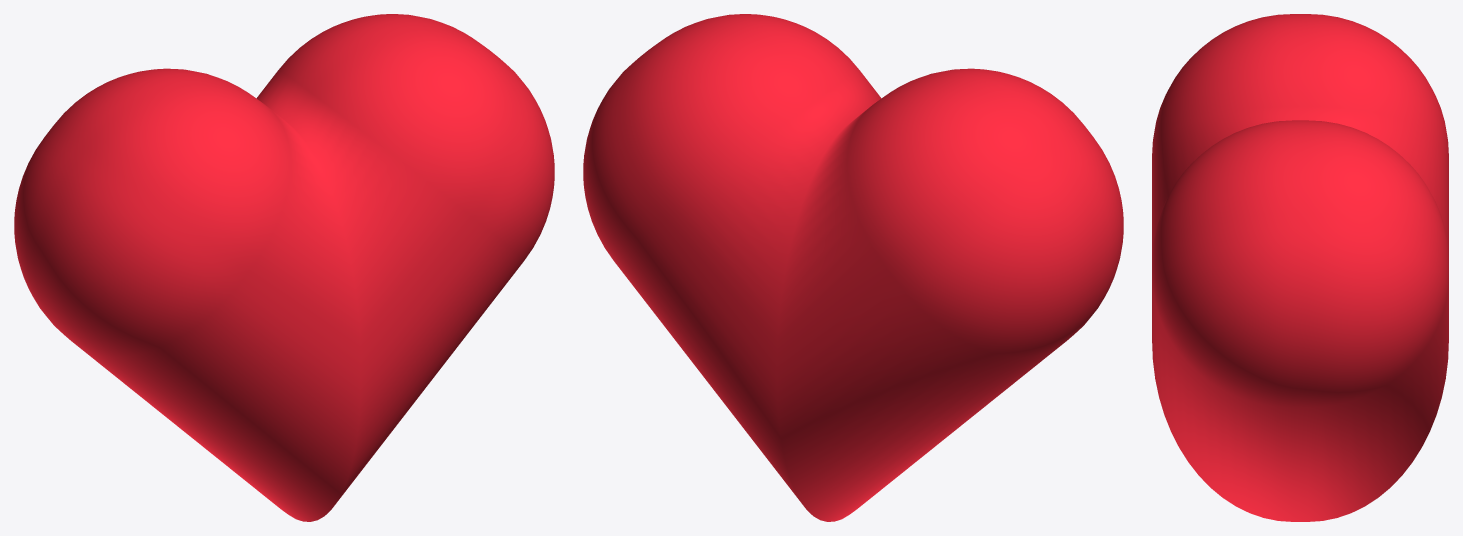
The model's file is heart1.glb.
3 views of the same model, side by side, from view 1: azimuth 30°, elevation 25°; view 2: azimuth 150°, elevation 25°; view 3: azimuth 270°, elevation 25° (orthographic). The views are drawn at different scales.
Parts seen in each view (by area): view 1: Cube; view 2: Cube; view 3: Cube.
Part boxes in pixels (bbox=[...]): Cube: bbox=[14, 14, 554, 521]; Cube: bbox=[583, 14, 1123, 521]; Cube: bbox=[1152, 14, 1448, 521].
Size of the model in its own units: 3.74 by 3.28 by 2.
